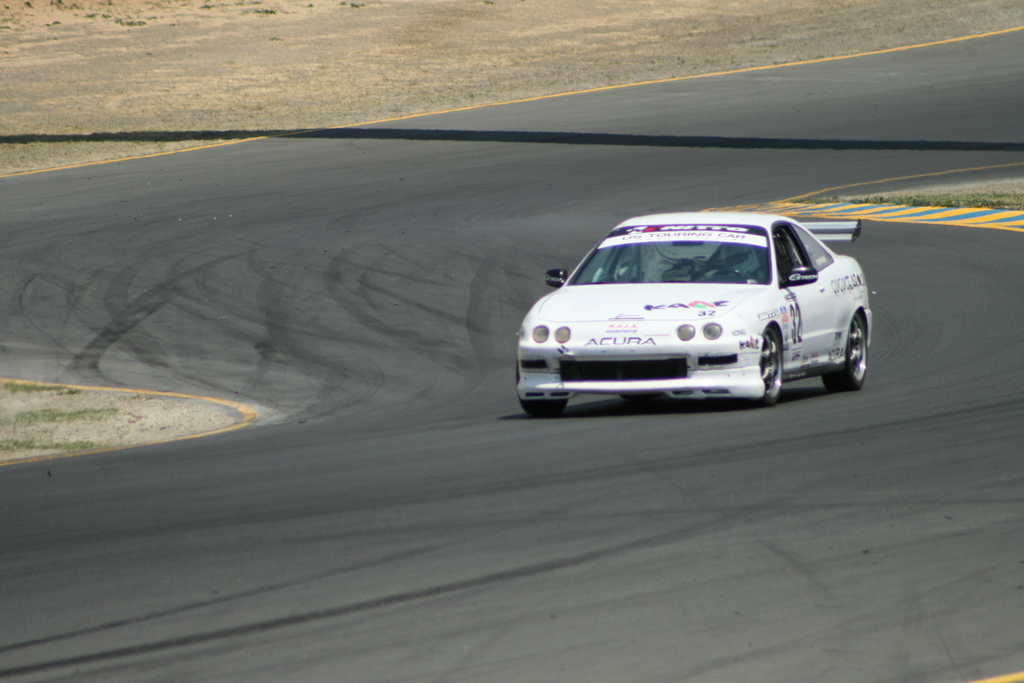Car: (513, 208, 896, 415)
